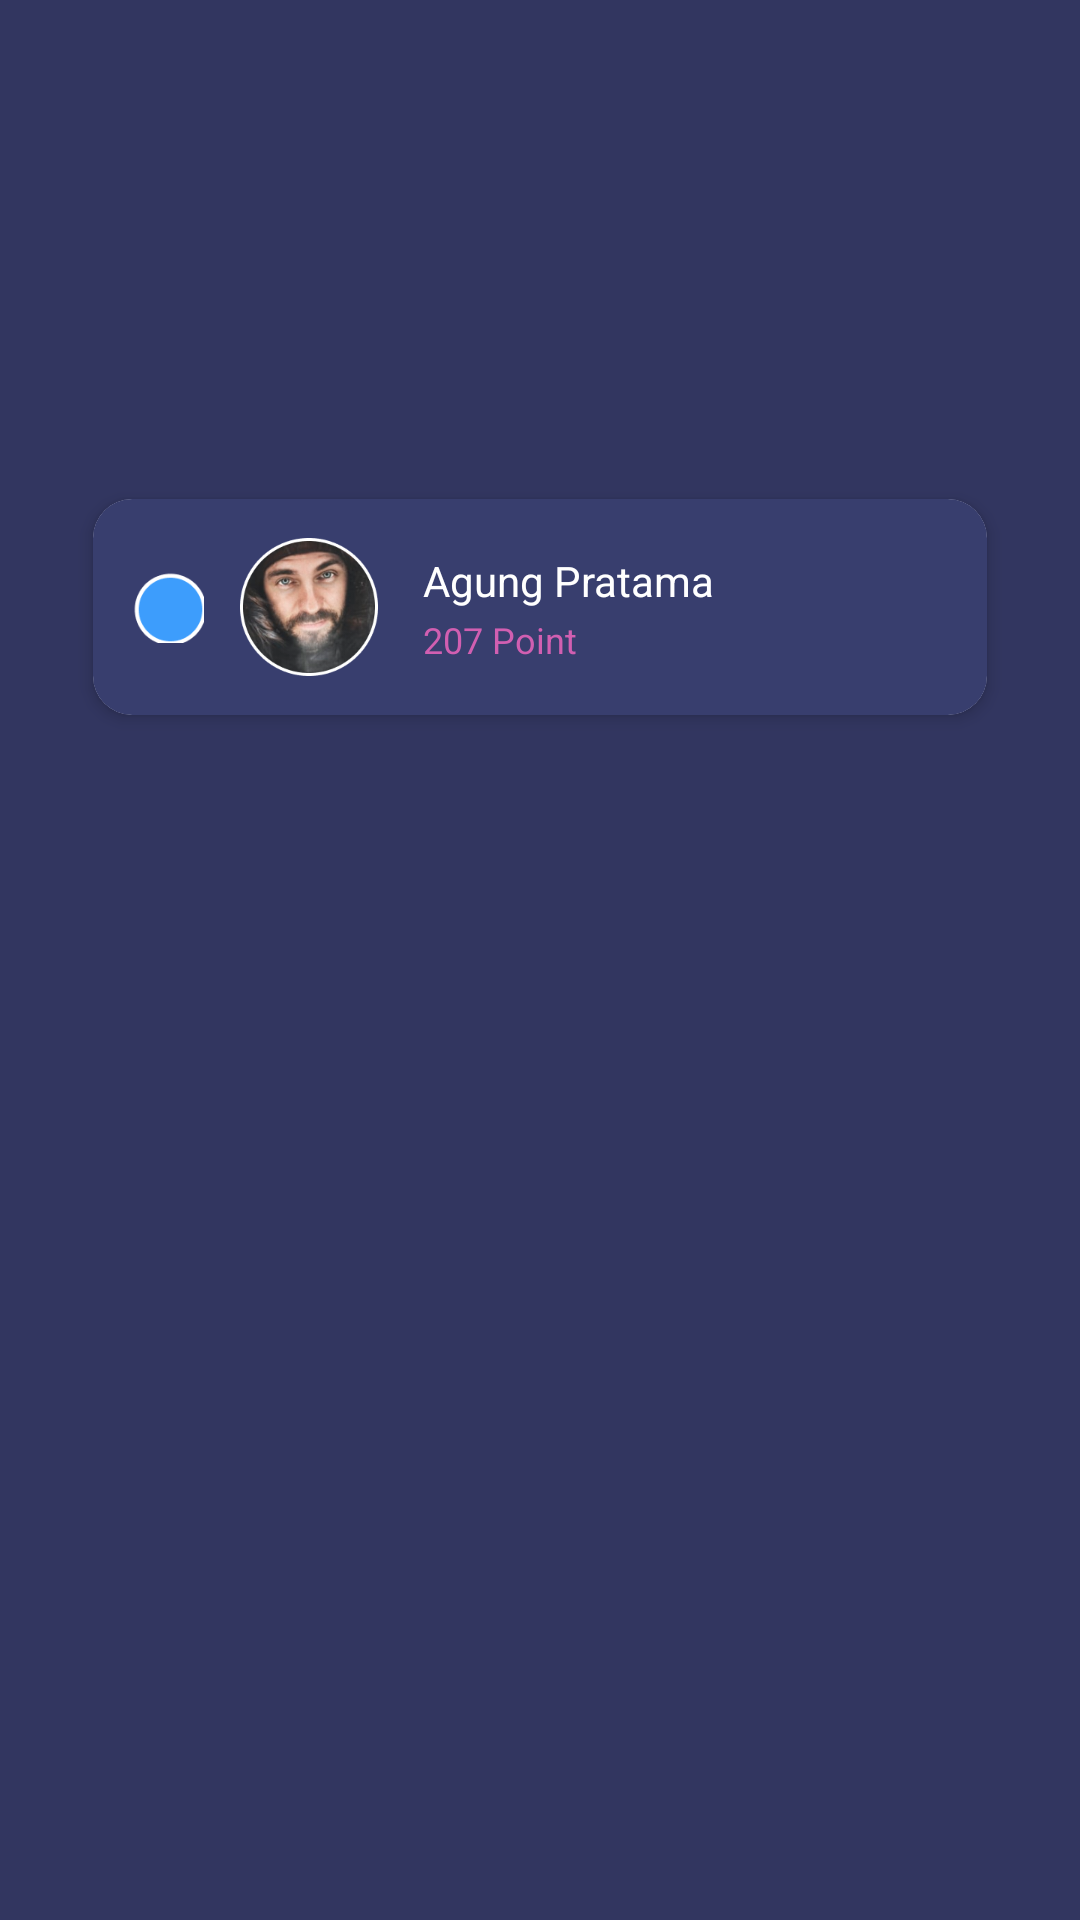

Point at icon controls on the screen. Image size 1080*1920, points as (x=x, y=y).
photoprofile: (x=309, y=607)
